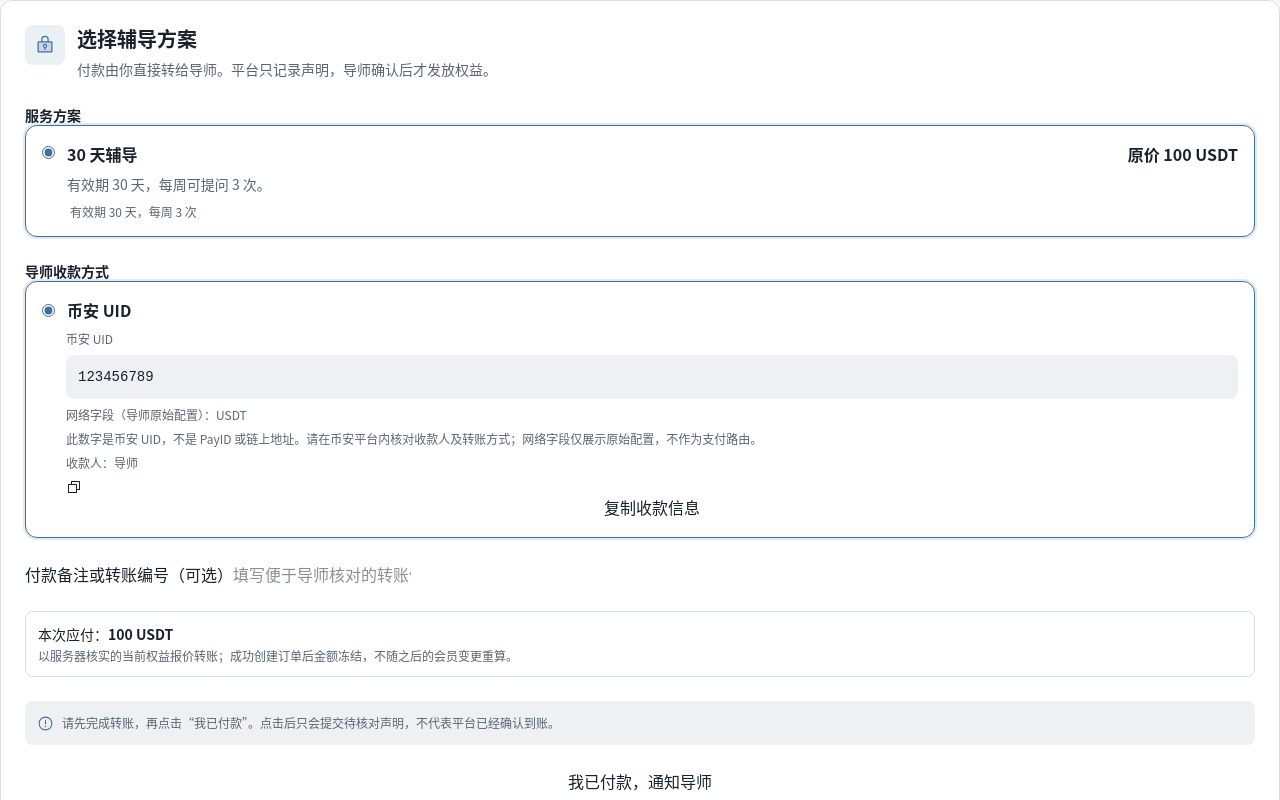
mentor payment reliability › never submits twice on repeated clicks and restores the submitted result on status reads
The width and height of the screenshot is (1280, 800).
Click the button "我已付款，通知导师": point(640, 782) [25,769,1255,795]
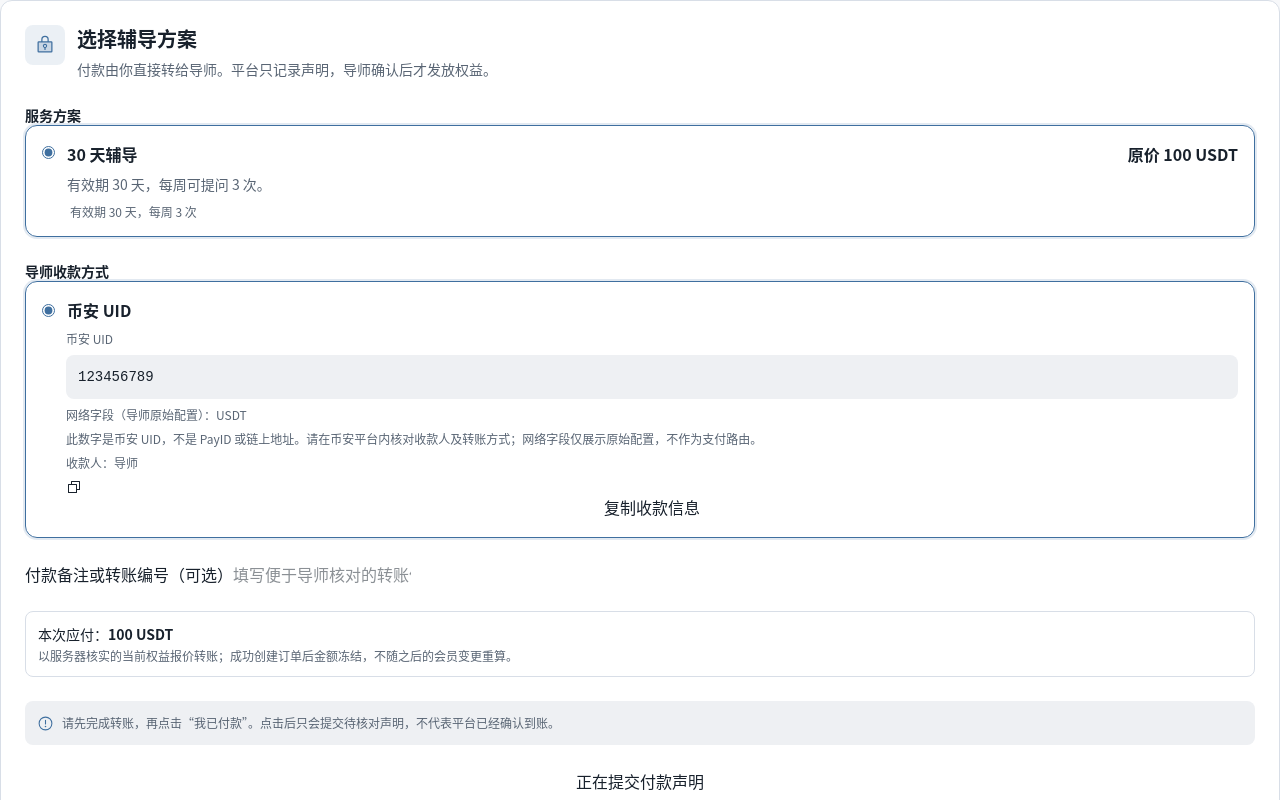
Click the button named "我已付款，通知导师": point(640, 782) [25,769,1255,795]
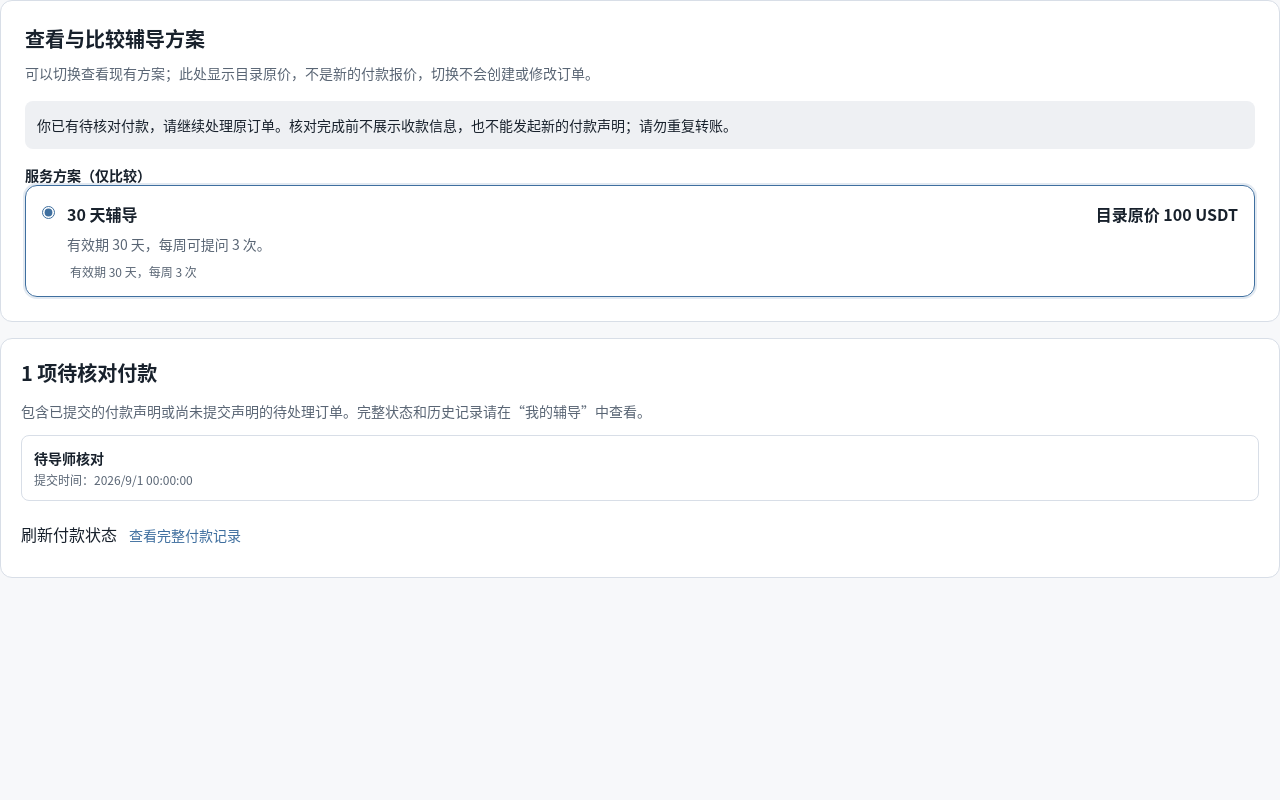
Expected: the element named "付款待核对摘要" is shown, [0,338,1279,578]
